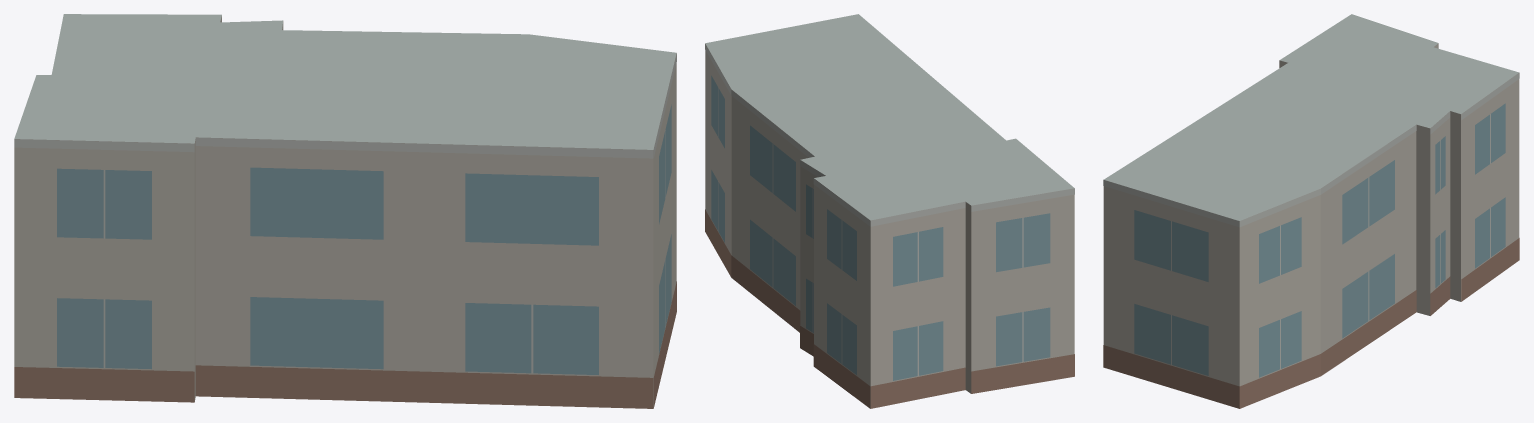
The model's file is survey-upis-32506045.glb.
The picture shows the model from 3 angles, left to right: view 1: azimuth 30°, elevation 25°; view 2: azimuth 150°, elevation 25°; view 3: azimuth 270°, elevation 25°; orthographic projection. The views are drawn at different scales.
Parts seen in each view (by area): view 1: survey-upis-32506045.tmp; view 2: survey-upis-32506045.tmp; view 3: survey-upis-32506045.tmp.
Part boxes in pixels (x1,y1,x2,y2): survey-upis-32506045.tmp: (14, 14, 676, 408); survey-upis-32506045.tmp: (705, 14, 1074, 408); survey-upis-32506045.tmp: (1103, 14, 1519, 408).
Size of the model in its own units: 17.28 by 7.3 by 14.66.
